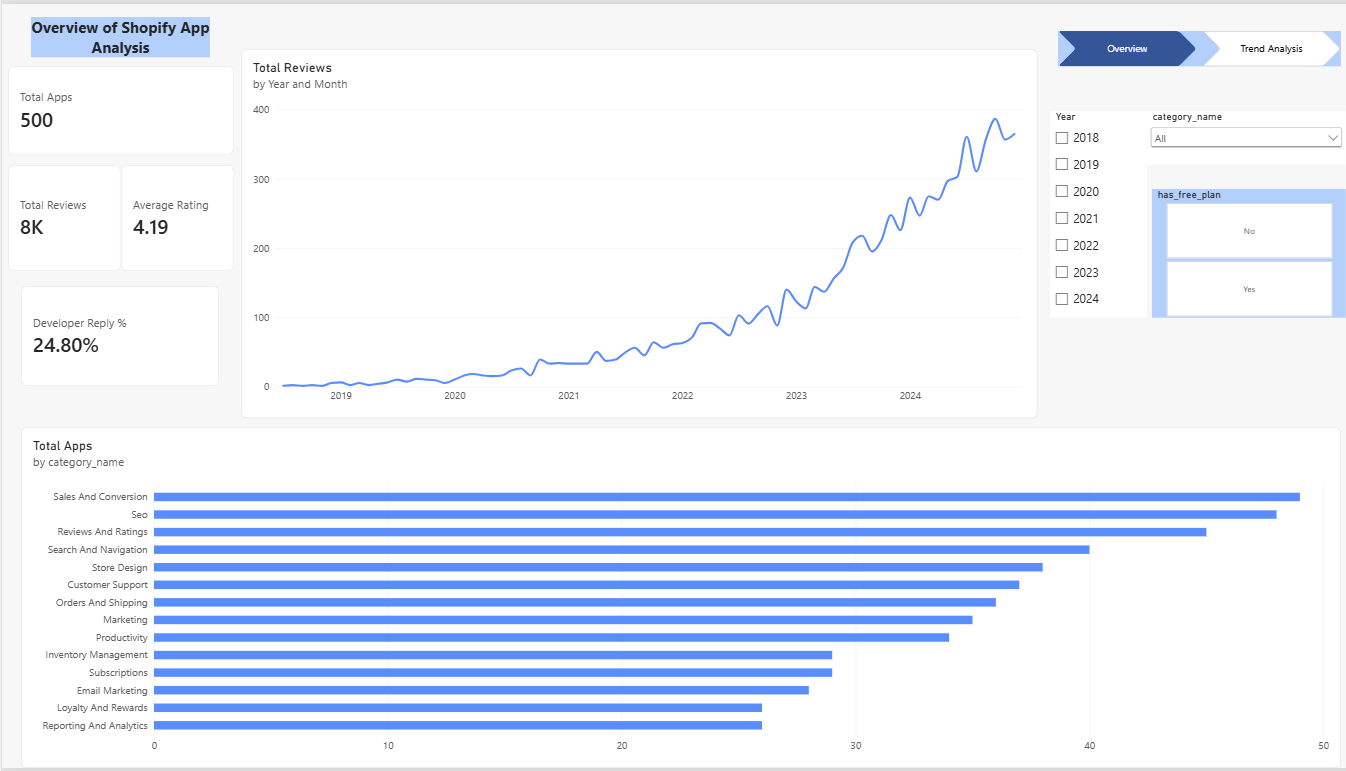

This screenshot's page, from the dashboard's own definition file:
{"tool":"powerbi","page":{"name":"Overview","canvas":[1920,1080],"ordinal":0},"visuals":[{"type":"cardVisual","fields":{"Data":["apps.Total Apps"]},"box":[8.5,87.7,319.2,125.4],"z":0},{"type":"cardVisual","fields":{"Data":["reviews.Total Reviews"]},"box":[9.1,228,159.6,150.5],"z":1000},{"type":"cardVisual","fields":{"Data":["apps.Average Rating"]},"box":[168.7,228,159.6,150.5],"z":2000},{"type":"cardVisual","fields":{"Data":["apps.Developer Reply %"]},"box":[27.4,399,280.5,141.4],"z":3000},{"type":"slicer","fields":{"Values":["apps.category_name"]},"box":[1618.9,151.3,281.4,76.3],"z":4000},{"type":"slicer","fields":{"Values":["dim_date.Date.Variation.Date Hierarchy.Year"]},"box":[1481.7,151.3,136.8,291.9],"z":5000},{"type":"slicer","fields":{"Values":["apps.has_free_plan"]},"box":[1625.9,261.6,273.6,182.4],"z":6000},{"type":"lineChart","fields":{"Category":["dim_date.Date.Variation.Date Hierarchy.Year","dim_date.Date.Variation.Date Hierarchy.Month"],"Y":["reviews.Total Reviews"]},"box":[337.9,63.6,1126.5,522.2],"z":7000},{"type":"clusteredBarChart","fields":{"Category":["apps.category_name"],"Y":["apps.Total Apps"]},"box":[26.9,598.1,1866.3,482.1],"z":9000},{"type":"pageNavigator","box":[1493,38.2,400,50],"z":9001},{"type":"textbox","box":[41,18.4,253.1,56.6],"z":9002}]}

Visuals, with their boxes in screenshot pixels (x1, y1, x2, y2), scaled from the page's 1920x1080 canvas onto the 1346x771 screenshot:
cardVisual - apps.Total Apps: 6/63/230/152
cardVisual - reviews.Total Reviews: 6/163/118/270
cardVisual - apps.Average Rating: 118/163/230/270
cardVisual - apps.Developer Reply %: 19/285/216/386
slicer - apps.category_name: 1135/108/1332/162
slicer - dim_date.Date.Variation.Date Hierarchy.Year: 1039/108/1135/316
slicer - apps.has_free_plan: 1140/187/1332/317
lineChart - dim_date.Date.Variation.Date Hierarchy.Year x dim_date.Date.Variation.Date Hierarchy.Month: 237/45/1027/418
clusteredBarChart - apps.category_name x apps.Total Apps: 19/427/1327/770
pageNavigator: 1047/27/1327/63
textbox: 29/13/206/54
